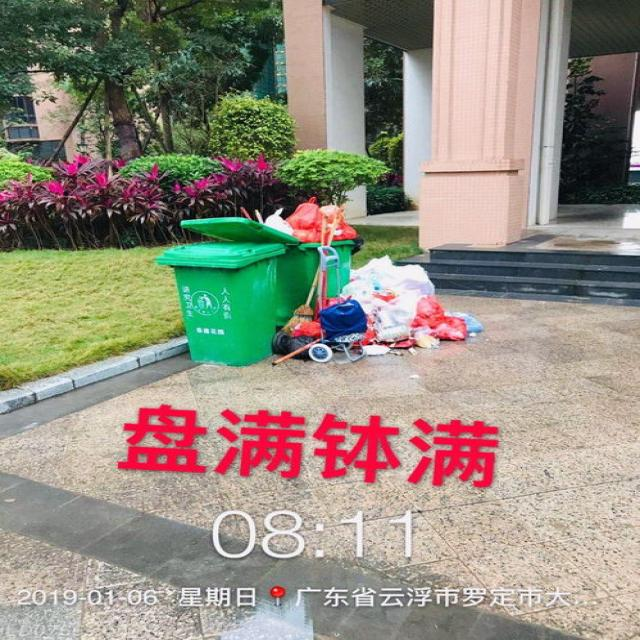garbage: (273, 256, 482, 361)
garbage_bin: (155, 239, 286, 366)
overflow: (242, 195, 360, 327)
